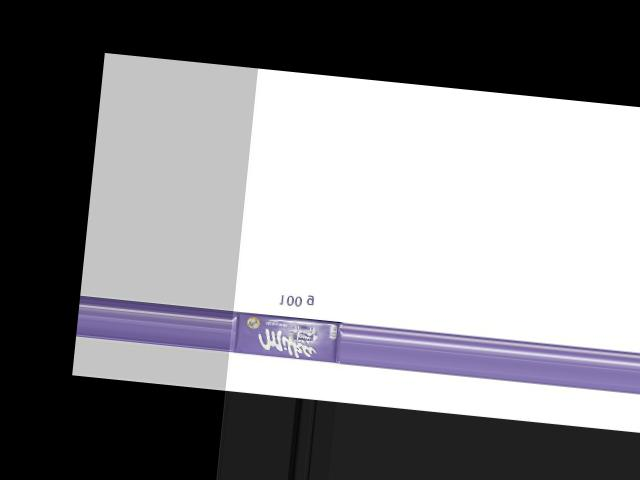chocolate: (232, 303, 345, 364)
